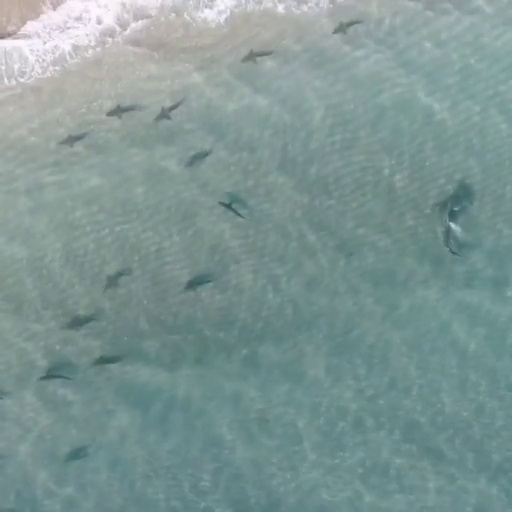shark: (431, 178, 477, 260)
